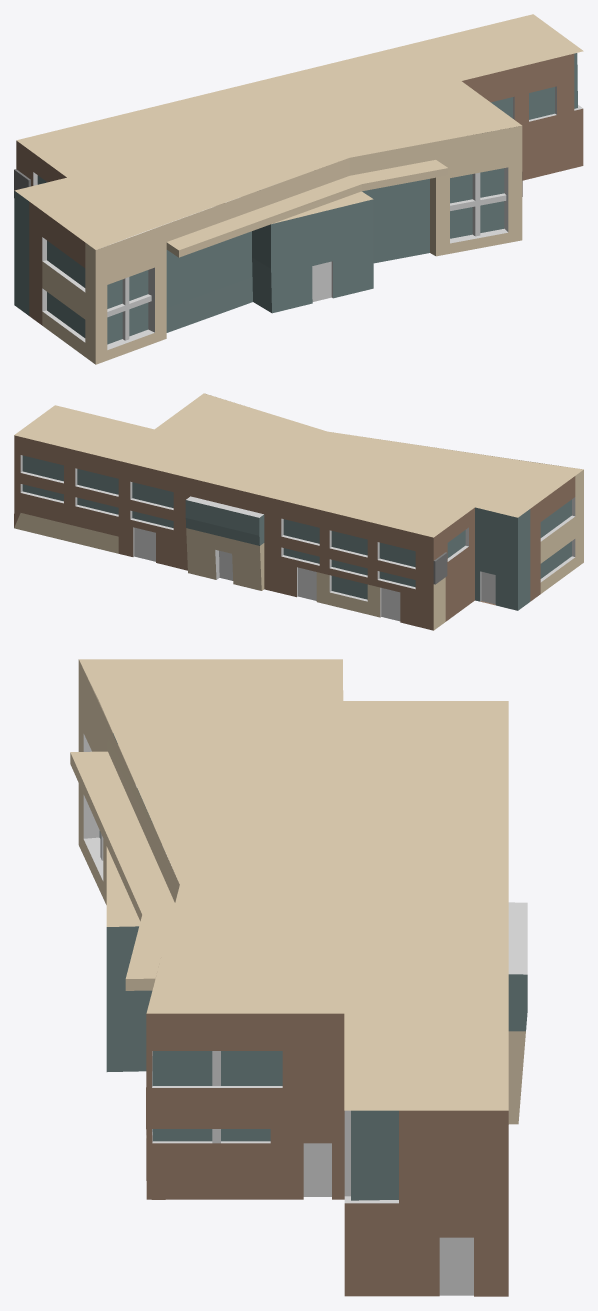
File: Engineering_Building_Textured (1).fbx
3 renders of one model, top to bottom at view 1: azimuth 30°, elevation 25°; view 2: azimuth 150°, elevation 25°; view 3: azimuth 270°, elevation 25°, orthographic. The views are drawn at different scales.
Visible parts, largest first — view 1: Front, Roof; view 2: Front, Roof; view 3: Roof, Front.
Boxes of the visible parts, x1,y1,x2,y2 form: Front: (14, 53, 583, 364); Roof: (14, 14, 583, 249); Front: (14, 435, 583, 630); Roof: (14, 393, 583, 537); Roof: (79, 659, 508, 1110); Front: (70, 659, 527, 1296).
Size of the model in its own units: 650 by 125 by 278.
